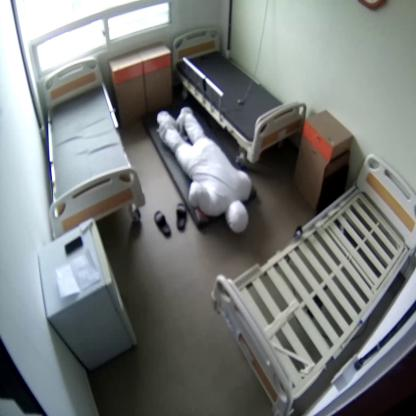Person: (156, 107, 253, 232)
